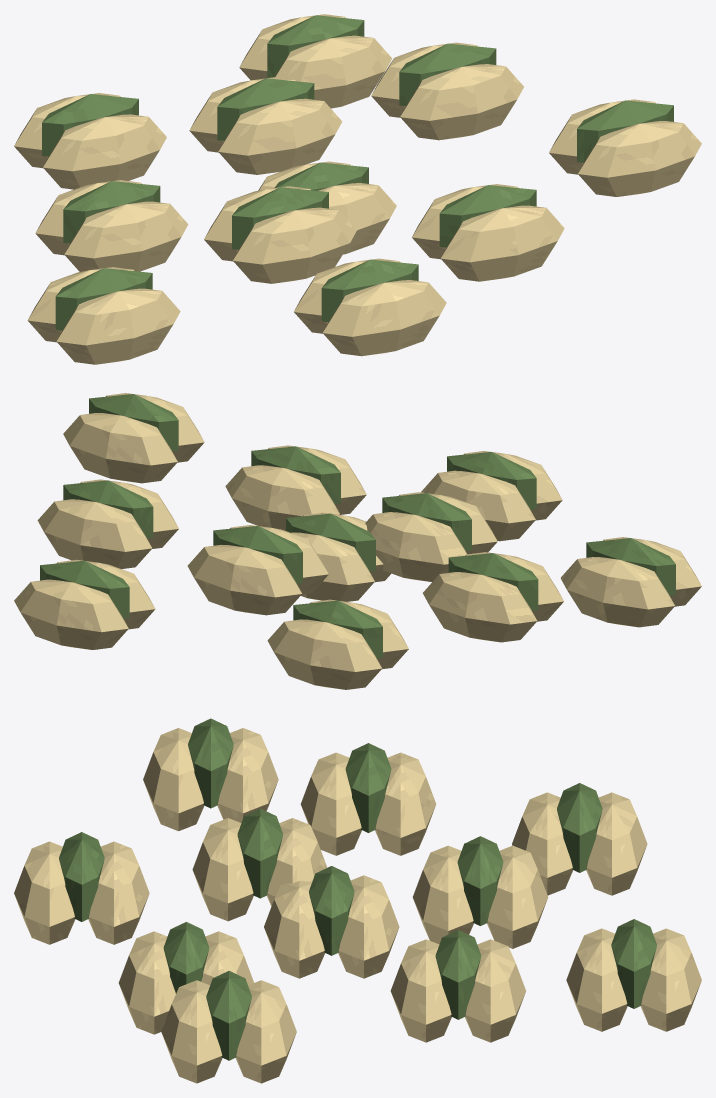
The model's file is pistachio_roasted.glb.
3 views of the same model, one above another, from view 1: azimuth 30°, elevation 25°; view 2: azimuth 150°, elevation 25°; view 3: azimuth 270°, elevation 25° (orthographic). The views are drawn at different scales.
Parts seen in each view (by area): view 1: block_split pistachio shell (×22), block_green kernel (×11); view 2: block_split pistachio shell (×22), block_green kernel (×11); view 3: block_split pistachio shell (×22), block_green kernel (×11).
Part boxes in pixels (x1,y1,x2,y2): block_split pistachio shell (×22): [14, 14, 701, 364]; block_green kernel (×11): [42, 15, 673, 330]; block_split pistachio shell (×22): [14, 393, 701, 689]; block_green kernel (×11): [40, 394, 675, 658]; block_split pistachio shell (×22): [14, 728, 701, 1083]; block_green kernel (×11): [59, 718, 656, 1060].
Size of the model in its own units: 0.0756 by 0.0128 by 0.0617.
Materials: 1 (1 with a texture image).
